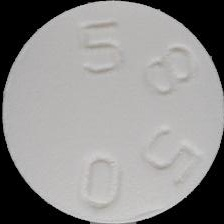0615-7720: (0, 0, 224, 224)
